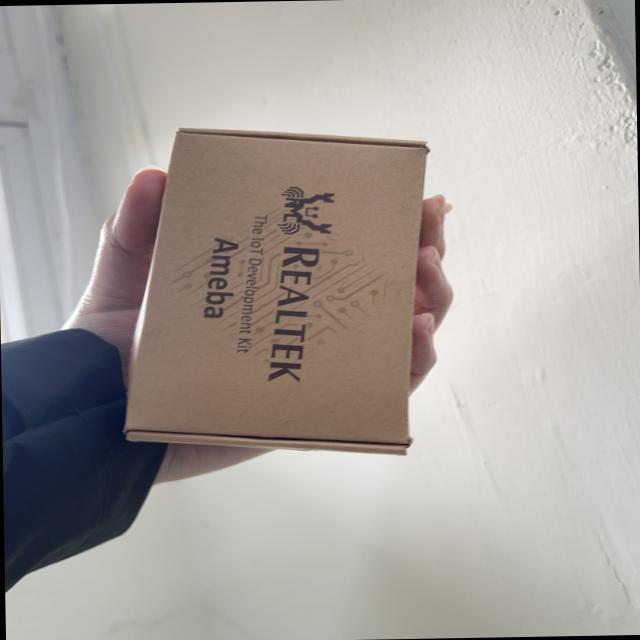box: (81, 129, 452, 466)
